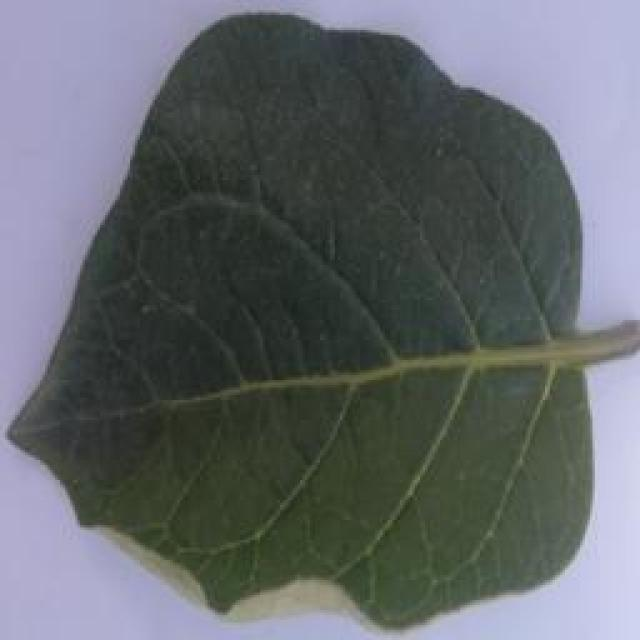Potato_Healthy: (6, 15, 617, 628)
